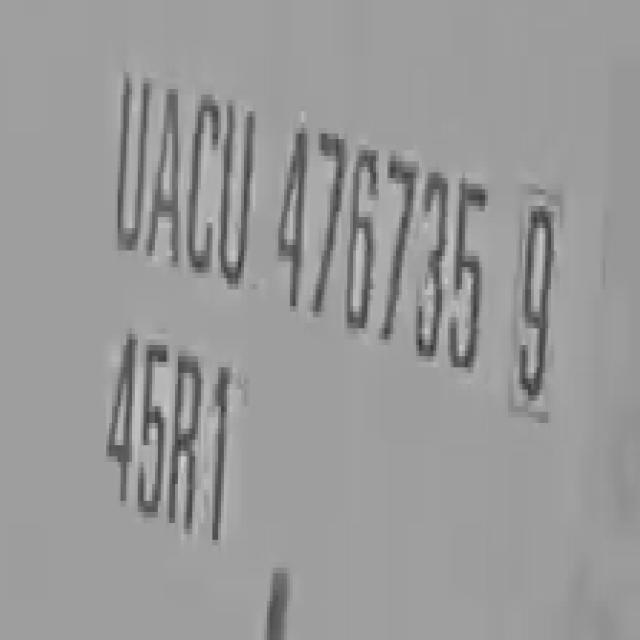dv: (505, 170, 562, 422)
owner: (106, 52, 253, 301)
serial: (267, 90, 489, 378)
size: (77, 318, 247, 556)
